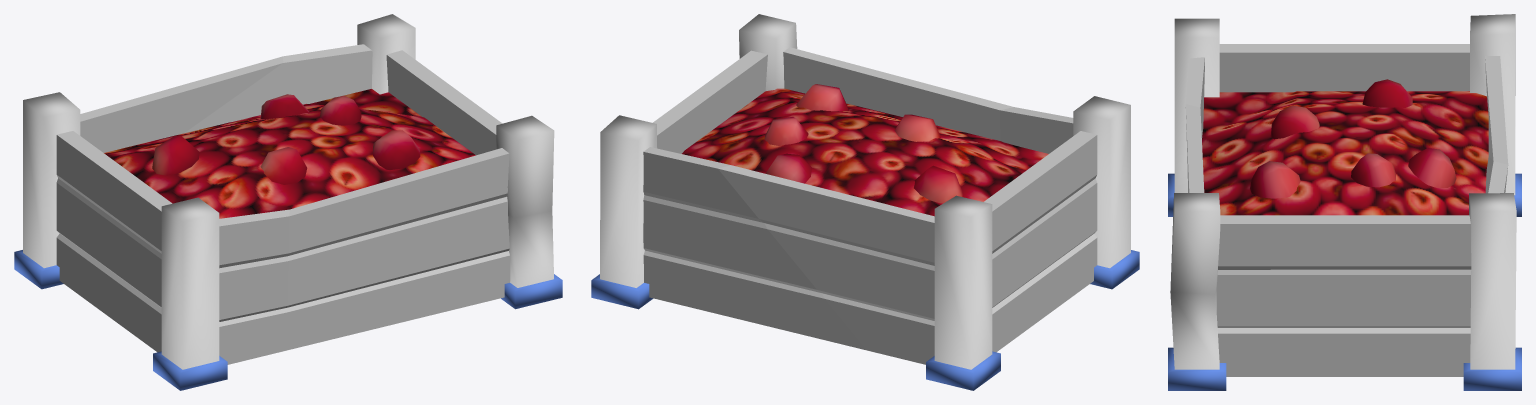
Rendered from Crate_1_Apples.fbx.
3 renders of one model, left to right at view 1: azimuth 30°, elevation 25°; view 2: azimuth 150°, elevation 25°; view 3: azimuth 270°, elevation 25°, orthographic. The views are drawn at different scales.
Parts seen in each view (by area): view 1: Crate_1_Apples; view 2: Crate_1_Apples; view 3: Crate_1_Apples.
Part boxes in pixels (x1,y1,x2,y2): Crate_1_Apples: [14, 14, 562, 390]; Crate_1_Apples: [591, 14, 1139, 390]; Crate_1_Apples: [1168, 14, 1521, 390].
Size of the model in its own units: 0.9213 by 0.3918 by 0.6934.
